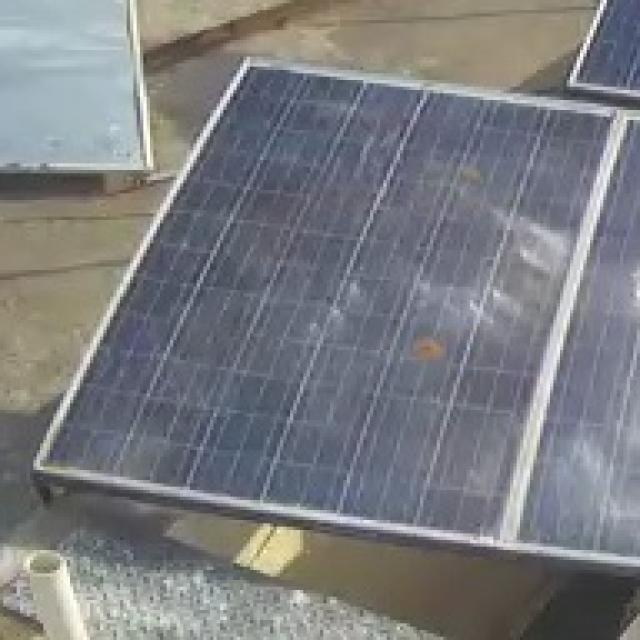Bird-drop: (483, 211, 558, 330), (407, 272, 480, 322), (321, 273, 369, 344)
Dusty: (398, 325, 450, 373)
